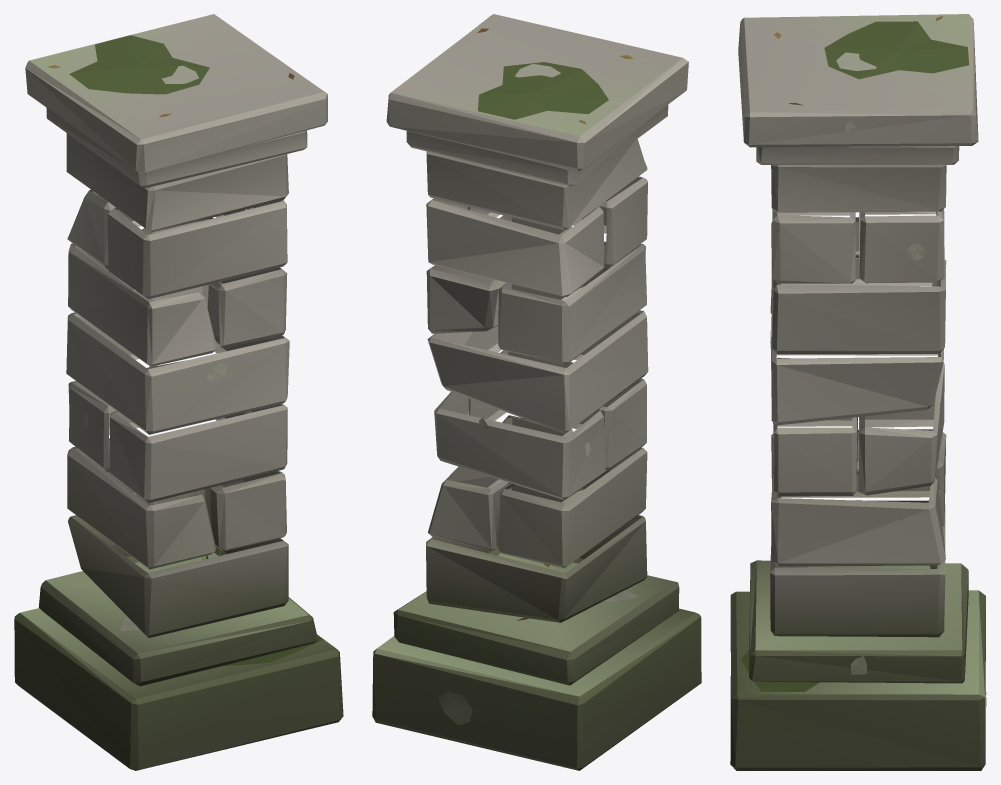
The model's file is pillar.glb.
The picture shows the model from 3 angles, left to right: view 1: azimuth 30°, elevation 25°; view 2: azimuth 150°, elevation 25°; view 3: azimuth 270°, elevation 25°; orthographic projection. The views are drawn at different scales.
Parts seen in each view (by area): view 1: pillar; view 2: pillar; view 3: pillar.
Boxes of the visible parts, box(x1,y1,x2,y2) form: pillar: box(14, 14, 343, 770); pillar: box(372, 14, 701, 770); pillar: box(730, 14, 986, 770).
Size of the model in its own units: 1.52 by 4.29 by 1.51.
